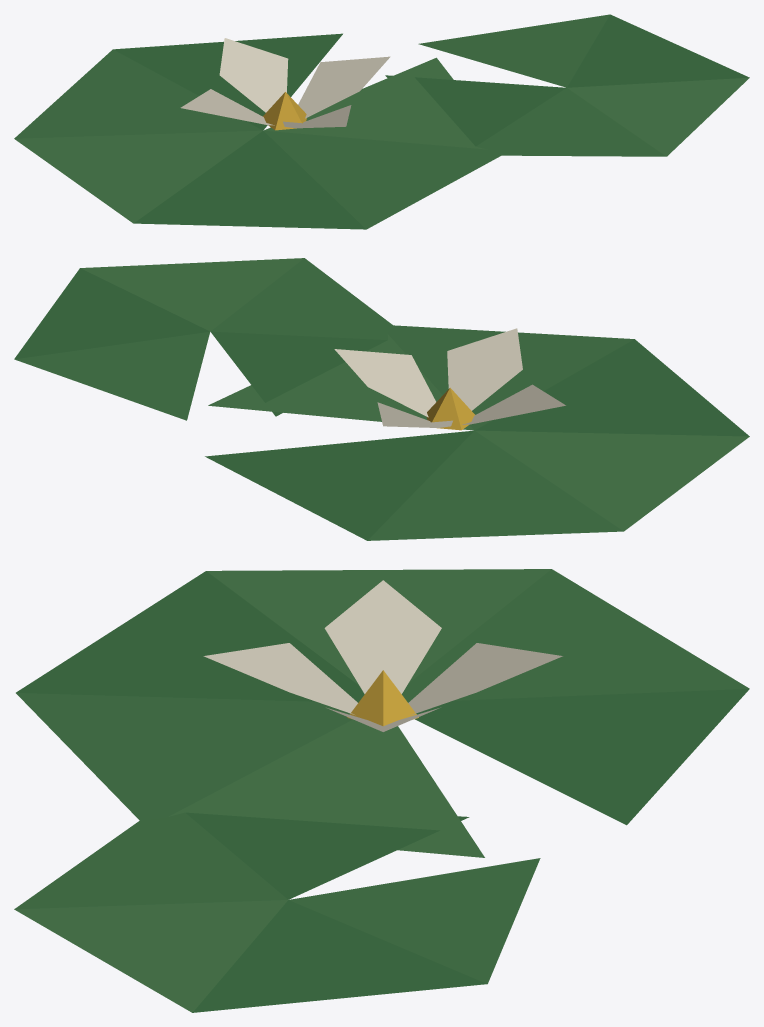
The model's file is lilypad_white_flower_lod1.glb.
The picture shows the model from 3 angles, top to bottom: view 1: azimuth 30°, elevation 25°; view 2: azimuth 150°, elevation 25°; view 3: azimuth 270°, elevation 25°; orthographic projection. The views are drawn at different scales.
Parts seen in each view (by area): view 1: lilypad_white_flower_lod1; view 2: lilypad_white_flower_lod1; view 3: lilypad_white_flower_lod1.
Part boxes in pixels (left/top/right/bottom): lilypad_white_flower_lod1: left=14, top=14, right=749, bottom=229; lilypad_white_flower_lod1: left=14, top=258, right=749, bottom=540; lilypad_white_flower_lod1: left=14, top=569, right=749, bottom=1012.
Bounding box in the file's own units: 1.11 × 0.08 × 0.7768.
